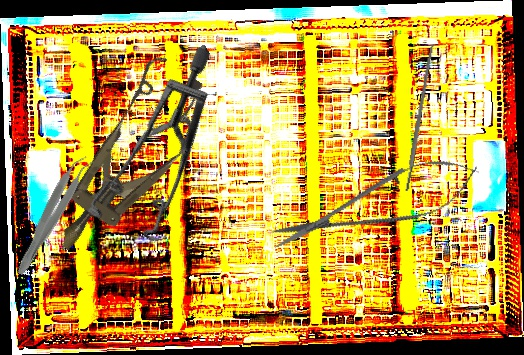Micro Scissor: (262, 143, 488, 267)
Scalpel Handle: (403, 44, 435, 192)
Speculum: (45, 44, 280, 264), (29, 48, 223, 273)
Tissue Forceps: (11, 150, 96, 281)
